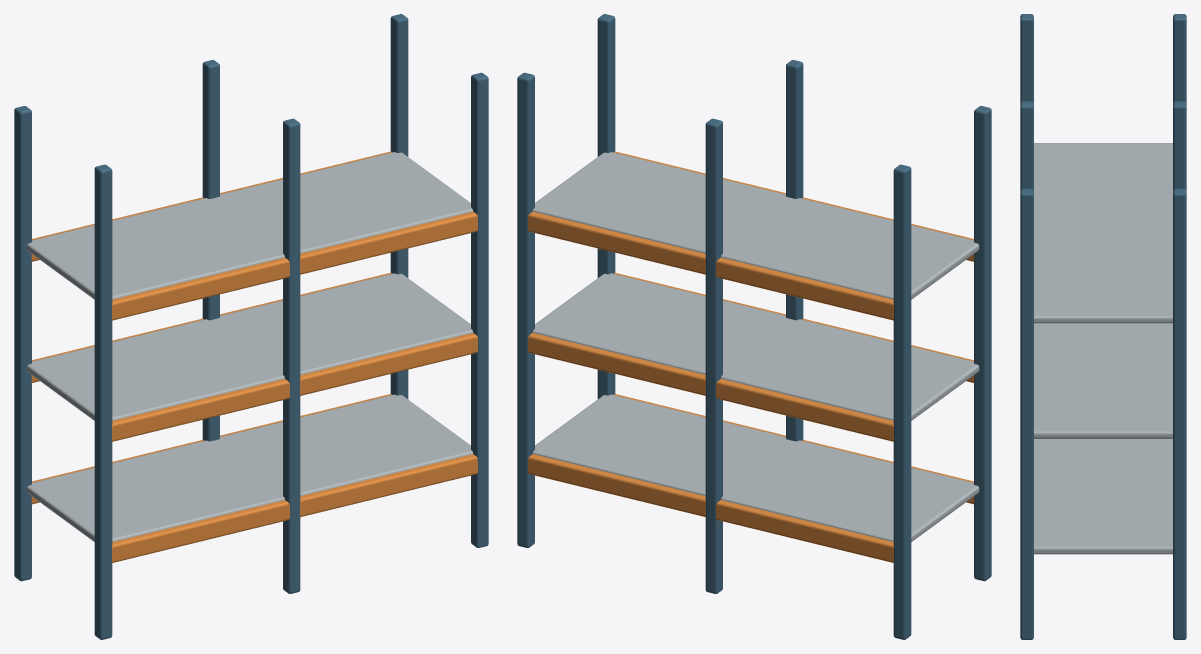
File: rack.glb
3 views of the same model, side by side, from view 1: azimuth 30°, elevation 25°; view 2: azimuth 150°, elevation 25°; view 3: azimuth 270°, elevation 25° (orthographic). The views are drawn at different scales.
Parts seen in each view (by area): view 1: RACK | shelf.001, RACK | shelf, RACK | shelf.002, RACK | upright, RACK | upright.001, RACK | upright.004, RACK | upright.002, RACK | beam, RACK | beam.002, RACK | beam.001, RACK | upright.005, RACK | upright.003 (+3 smaller); view 2: RACK | shelf.001, RACK | shelf, RACK | shelf.002, RACK | upright.001, RACK | upright, RACK | upright.005, RACK | upright.003, RACK | beam.003, RACK | beam.005, RACK | beam.004, RACK | upright.004, RACK | upright.002 (+3 smaller); view 3: RACK | shelf.002, RACK | shelf, RACK | shelf.001, RACK | upright.004, RACK | upright.005, RACK | upright.002, RACK | upright.003, RACK | upright, RACK | upright.001.
Part boxes in pixels (<box>): RACK | shelf.001: <box>26,273,473,420</box>; RACK | shelf: <box>26,394,473,541</box>; RACK | shelf.002: <box>26,152,473,299</box>; RACK | upright: <box>94,164,112,639</box>; RACK | upright.001: <box>14,106,31,581</box>; RACK | upright.004: <box>471,72,488,547</box>; RACK | upright.002: <box>283,118,300,593</box>; RACK | beam: <box>112,454,477,562</box>; RACK | beam.002: <box>112,211,477,320</box>; RACK | beam.001: <box>112,333,477,441</box>; RACK | upright.005: <box>390,14,408,398</box>; RACK | upright.003: <box>202,60,219,441</box>; RACK | shelf.001: <box>532,273,979,420</box>; RACK | shelf: <box>532,394,979,541</box>; RACK | shelf.002: <box>532,152,979,299</box>; RACK | upright.001: <box>893,164,911,639</box>; RACK | upright: <box>974,106,991,581</box>; RACK | upright.005: <box>517,72,534,547</box>; RACK | upright.003: <box>705,118,722,593</box>; RACK | beam.003: <box>528,454,893,562</box>; RACK | beam.005: <box>528,211,893,320</box>; RACK | beam.004: <box>528,333,893,441</box>; RACK | upright.004: <box>597,14,615,398</box>; RACK | upright.002: <box>786,60,803,441</box>; RACK | shelf.002: <box>1034,143,1172,323</box>; RACK | shelf: <box>1034,439,1172,554</box>; RACK | shelf.001: <box>1034,323,1172,438</box>; RACK | upright.004: <box>1020,189,1033,639</box>; RACK | upright.005: <box>1173,189,1186,639</box>; RACK | upright.002: <box>1020,101,1033,190</box>; RACK | upright.003: <box>1173,101,1186,190</box>; RACK | upright: <box>1020,14,1033,103</box>; RACK | upright.001: <box>1173,14,1186,103</box>.
Size of the model in its own units: 2.69 by 3.1 by 1.05.
